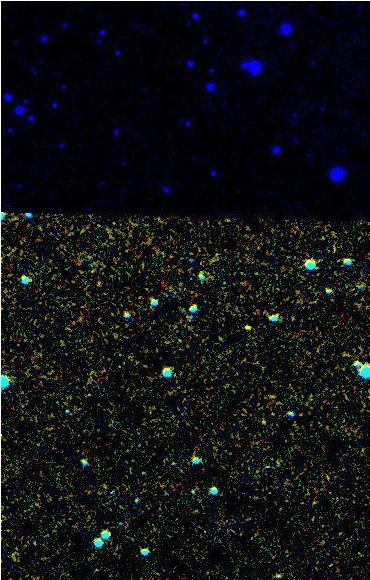star: (235, 312, 265, 342)
